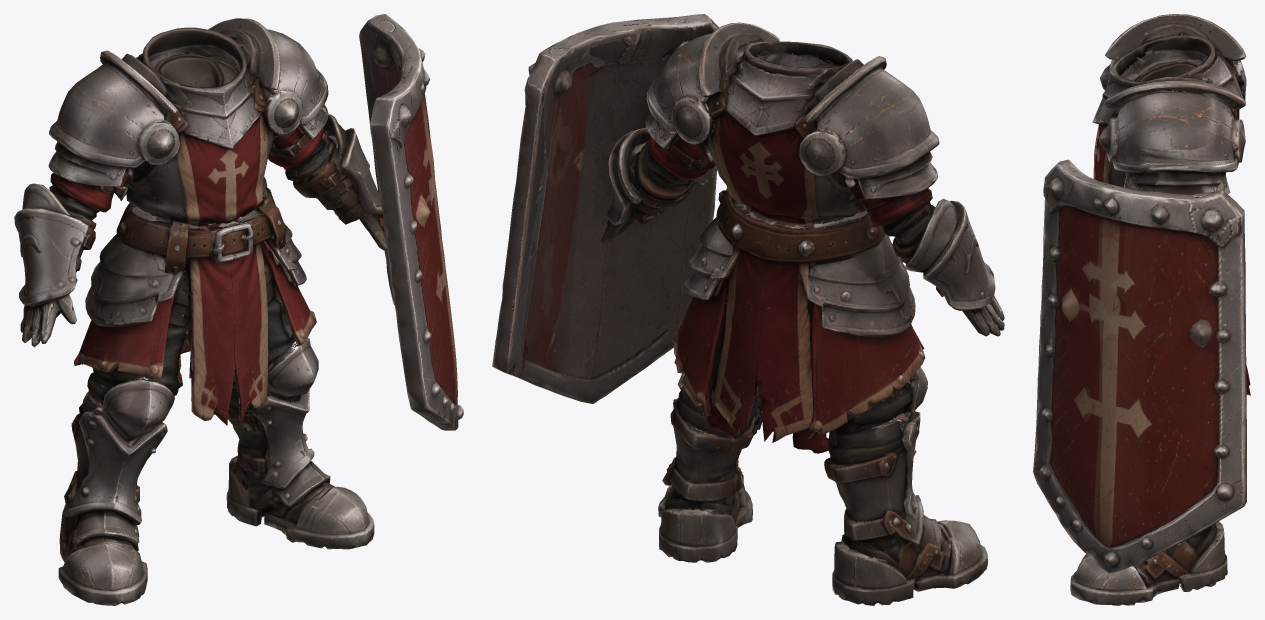
File: outfit.glb
The picture shows the model from 3 angles, left to right: view 1: azimuth 30°, elevation 25°; view 2: azimuth 150°, elevation 25°; view 3: azimuth 270°, elevation 25°; orthographic projection. The views are drawn at different scales.
Visible parts, largest first — view 1: texture_mapping; view 2: texture_mapping; view 3: texture_mapping.
Part boxes in pixels (x1=…): texture_mapping: x1=14, y1=14, x2=463, y2=605; texture_mapping: x1=492, y1=14, x2=1004, y2=605; texture_mapping: x1=1033, y1=14, x2=1250, y2=605.
Size of the model in its own units: 0.9321 by 0.9975 by 0.403.
Materials: 1 (1 with a texture image).
